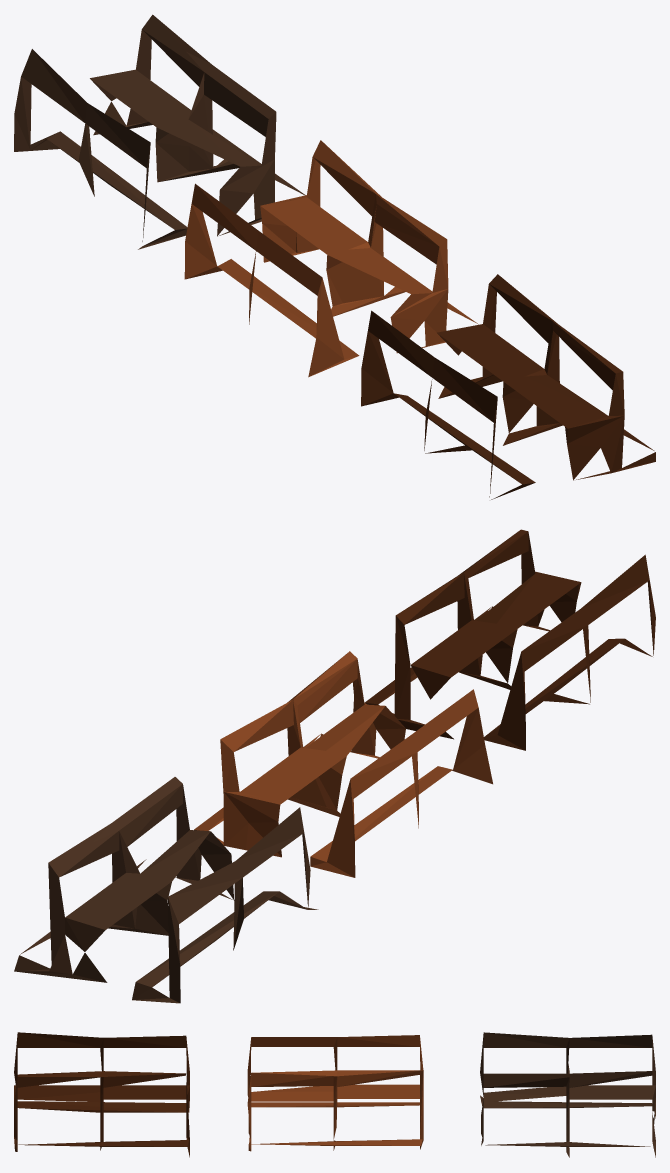
File: bw-pew.lod1.glb
3 renders of one model, top to bottom at view 1: azimuth 30°, elevation 25°; view 2: azimuth 150°, elevation 25°; view 3: azimuth 270°, elevation 25°, orthographic. The views are drawn at different scales.
Visible parts, largest first — view 1: Object_6; view 2: Object_6; view 3: Object_6.
Boxes of the visible parts, x1,y1,x2,y2 form: Object_6: (14, 14, 655, 499); Object_6: (14, 529, 655, 1003); Object_6: (14, 1032, 655, 1157).
Bounding box in the file's own units: 0.6442 × 0.3984 × 3.
